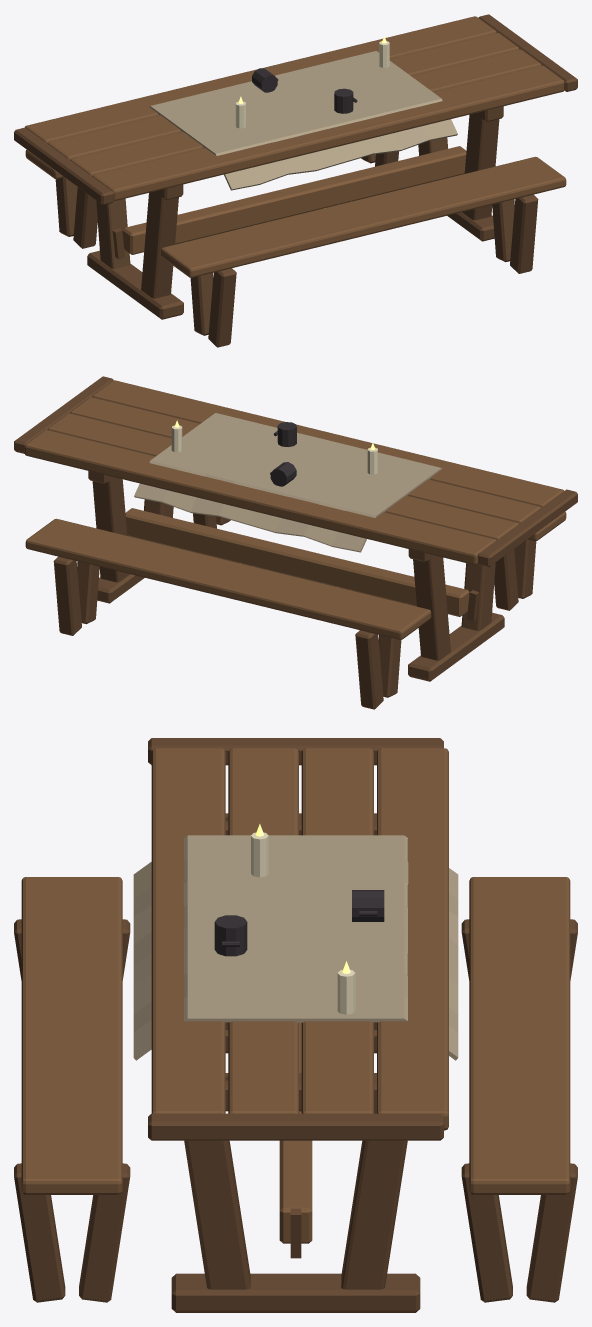
Rendered from SM_Furn_TavernTable_02.fbx.
3 renders of one model, top to bottom at view 1: azimuth 30°, elevation 25°; view 2: azimuth 150°, elevation 25°; view 3: azimuth 270°, elevation 25°, orthographic. The views are drawn at different scales.
Visible parts, largest first — view 1: SM_Furn_TavernTable_02_Cloth, SM_Furn_TavernTable_02_BenchTop0, SM_Furn_TavernTable_02_TopPlank0, SM_Furn_TavernTable_02_Stretcher, SM_Furn_TavernTable_02_TopPlank3, SM_Furn_TavernTable_02_TopPlank2, SM_Furn_TavernTable_02_TopPlank1, SM_Furn_TavernTable_02_Leg00, SM_Furn_TavernTable_02_EndCap-1, SM_Furn_TavernTable_02_Foot0, SM_Furn_TavernTable_02_Leg10, SM_Furn_TavernTable_02_BenchLeg000 (+10 smaller); view 2: SM_Furn_TavernTable_02_Cloth, SM_Furn_TavernTable_02_BenchTop1, SM_Furn_TavernTable_02_TopPlank3, SM_Furn_TavernTable_02_Stretcher, SM_Furn_TavernTable_02_TopPlank0, SM_Furn_TavernTable_02_TopPlank2, SM_Furn_TavernTable_02_TopPlank1, SM_Furn_TavernTable_02_Leg01, SM_Furn_TavernTable_02_EndCap-1, SM_Furn_TavernTable_02_Foot0, SM_Furn_TavernTable_02_Leg11, SM_Furn_TavernTable_02_BenchLeg101 (+10 smaller); view 3: SM_Furn_TavernTable_02_Cloth, SM_Furn_TavernTable_02_BenchTop0, SM_Furn_TavernTable_02_BenchTop1, SM_Furn_TavernTable_02_TopPlank3, SM_Furn_TavernTable_02_TopPlank0, SM_Furn_TavernTable_02_TopPlank2, SM_Furn_TavernTable_02_TopPlank1, SM_Furn_TavernTable_02_Foot1, SM_Furn_TavernTable_02_EndCap1, SM_Furn_TavernTable_02_Leg11, SM_Furn_TavernTable_02_Leg10, SM_Furn_TavernTable_02_BenchLeg011 (+9 smaller).
Boxes of the visible parts, x1,y1,x2,y2 form: SM_Furn_TavernTable_02_Cloth: [149, 51, 457, 190]; SM_Furn_TavernTable_02_BenchTop0: [160, 156, 566, 277]; SM_Furn_TavernTable_02_TopPlank0: [92, 65, 564, 200]; SM_Furn_TavernTable_02_Stretcher: [122, 146, 466, 254]; SM_Furn_TavernTable_02_TopPlank3: [25, 16, 496, 143]; SM_Furn_TavernTable_02_TopPlank2: [47, 33, 519, 159]; SM_Furn_TavernTable_02_TopPlank1: [70, 49, 541, 175]; SM_Furn_TavernTable_02_Leg00: [141, 190, 178, 298]; SM_Furn_TavernTable_02_EndCap-1: [14, 127, 114, 205]; SM_Furn_TavernTable_02_Foot0: [87, 250, 183, 319]; SM_Furn_TavernTable_02_Leg10: [462, 112, 499, 220]; SM_Furn_TavernTable_02_BenchLeg000: [208, 268, 236, 347]; SM_Furn_TavernTable_02_Cloth: [134, 413, 442, 552]; SM_Furn_TavernTable_02_BenchTop1: [25, 518, 431, 639]; SM_Furn_TavernTable_02_TopPlank3: [24, 430, 496, 564]; SM_Furn_TavernTable_02_Stretcher: [125, 508, 469, 616]; SM_Furn_TavernTable_02_TopPlank0: [92, 380, 564, 507]; SM_Furn_TavernTable_02_TopPlank2: [47, 413, 518, 540]; SM_Furn_TavernTable_02_TopPlank1: [70, 397, 540, 523]; SM_Furn_TavernTable_02_Leg01: [413, 554, 450, 660]; SM_Furn_TavernTable_02_EndCap-1: [478, 489, 577, 567]; SM_Furn_TavernTable_02_Foot0: [408, 612, 504, 681]; SM_Furn_TavernTable_02_Leg11: [92, 476, 129, 582]; SM_Furn_TavernTable_02_BenchLeg101: [355, 630, 383, 709]; SM_Furn_TavernTable_02_Cloth: [133, 835, 458, 1060]; SM_Furn_TavernTable_02_BenchTop0: [21, 877, 122, 1194]; SM_Furn_TavernTable_02_BenchTop1: [469, 877, 570, 1194]; SM_Furn_TavernTable_02_TopPlank3: [377, 748, 448, 1130]; SM_Furn_TavernTable_02_TopPlank0: [151, 748, 225, 1113]; SM_Furn_TavernTable_02_TopPlank2: [301, 748, 373, 1113]; SM_Furn_TavernTable_02_TopPlank1: [228, 748, 298, 1113]; SM_Furn_TavernTable_02_Foot1: [171, 1273, 420, 1312]; SM_Furn_TavernTable_02_EndCap1: [148, 1113, 443, 1140]; SM_Furn_TavernTable_02_Leg11: [341, 1099, 407, 1289]; SM_Furn_TavernTable_02_Leg10: [184, 1140, 250, 1289]; SM_Furn_TavernTable_02_BenchLeg011: [79, 1163, 130, 1302].
Bounding box in the file's own units: 2.53 × 0.9144 × 1.56.
